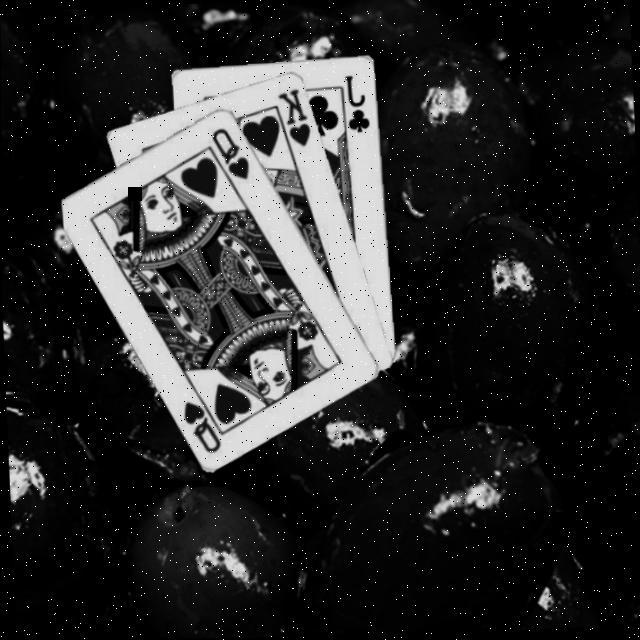JC: (343, 69, 374, 133)
KH: (277, 84, 315, 149)
QH: (180, 382, 228, 455), (210, 123, 254, 182)
